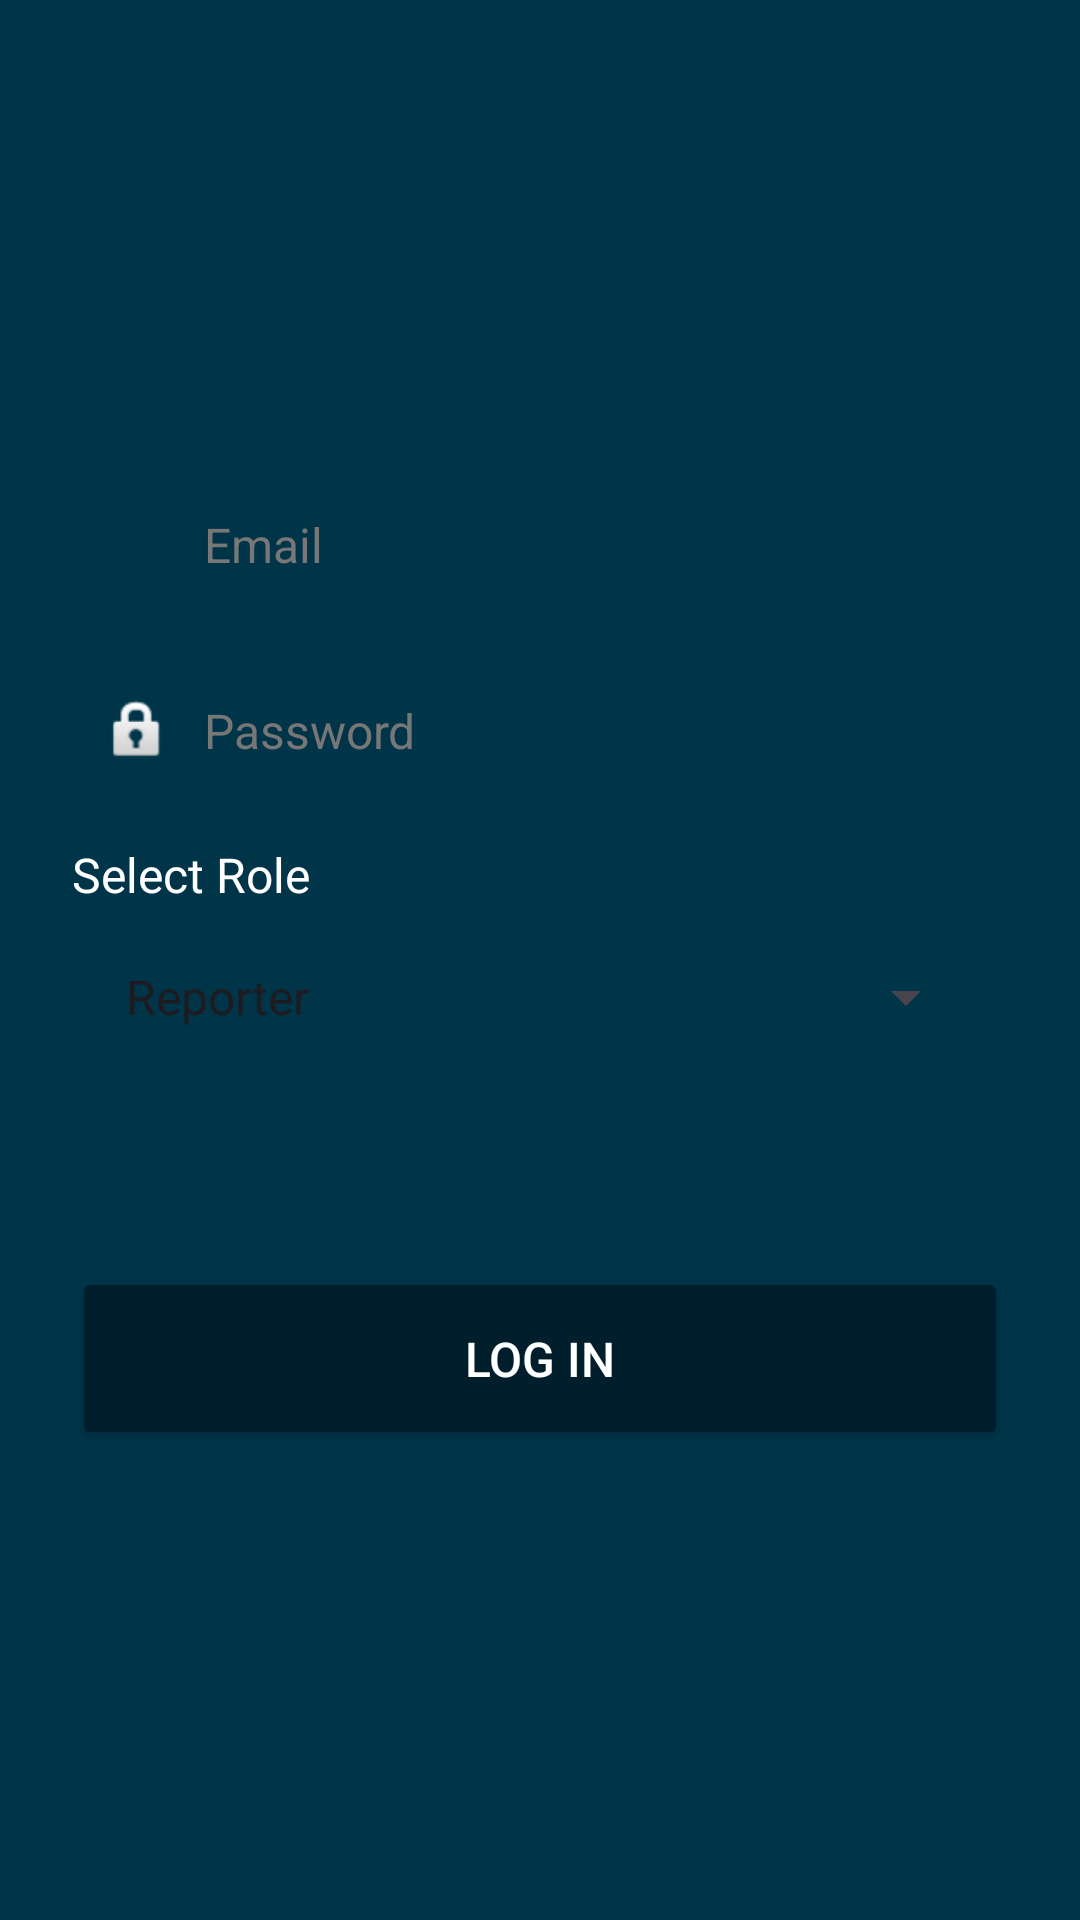

Icon click points for this 1080x1920 phone screenshot, format (x,y):
lock idle: (136,728)
